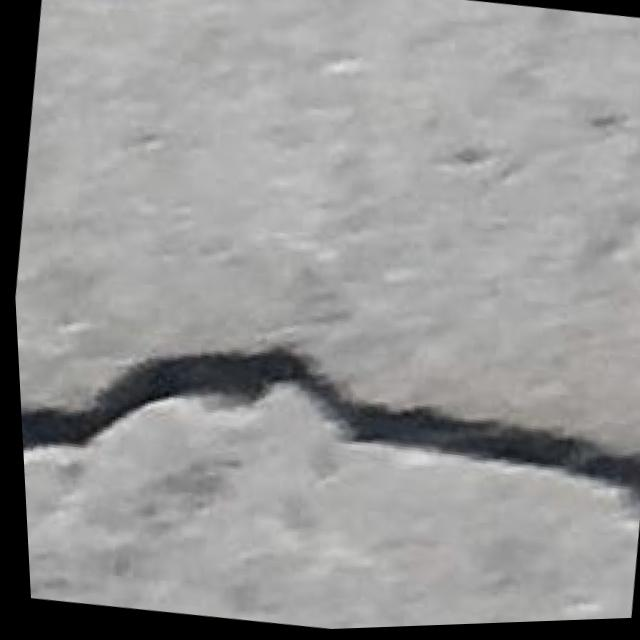Crack: (13, 294, 640, 566)
